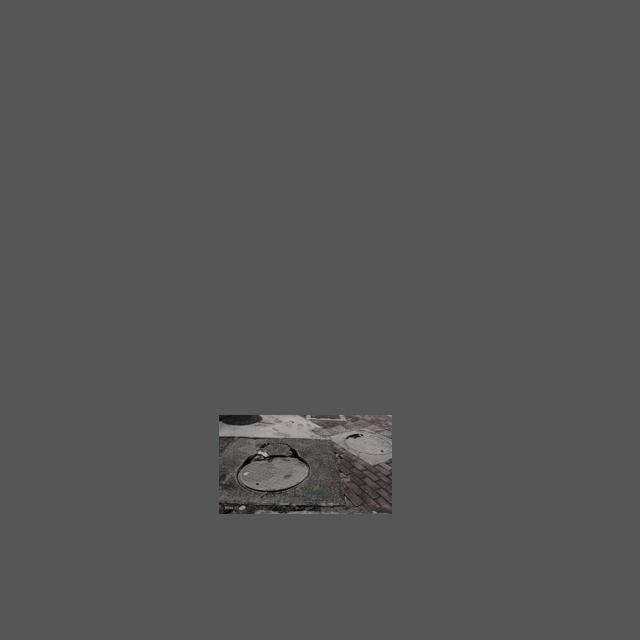circle: (220, 434, 349, 506)
